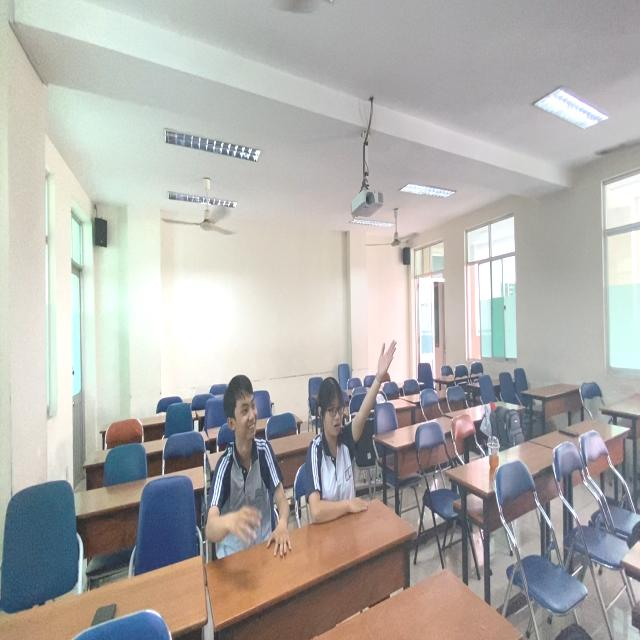raise_hand: (303, 333, 398, 527)
